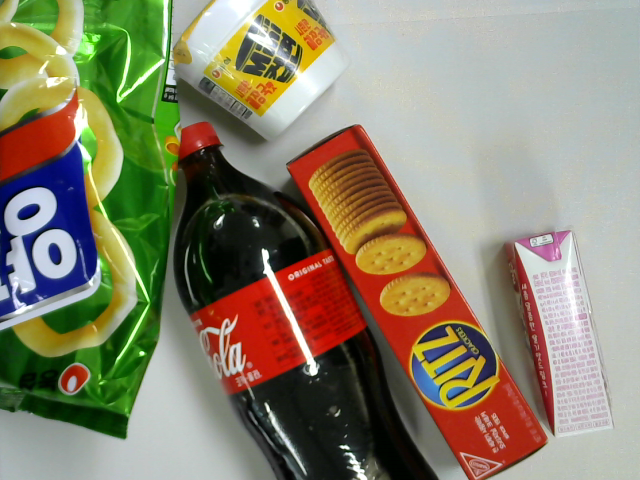Coca_Cola_1.5L: (162, 118, 442, 480)
Hejangmini: (164, 1, 349, 141)
Oninon_Ring: (1, 1, 182, 445)
Ritz_Cracker: (283, 120, 552, 480)
Strawberry_E_Mong: (500, 226, 625, 445)
